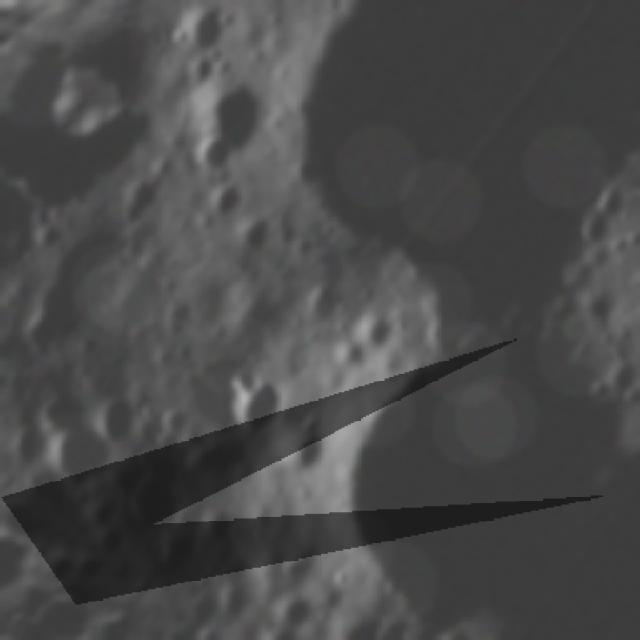crater: (166, 183, 640, 640), (243, 0, 640, 346), (98, 442, 216, 562), (176, 51, 282, 157), (218, 361, 304, 447), (258, 406, 344, 492), (155, 0, 242, 71), (226, 199, 300, 273), (26, 374, 99, 448), (83, 379, 155, 453), (342, 291, 413, 363), (308, 597, 412, 640), (0, 408, 63, 474), (288, 274, 352, 338), (196, 162, 259, 225), (321, 323, 381, 385), (87, 510, 138, 562), (591, 174, 640, 226)
